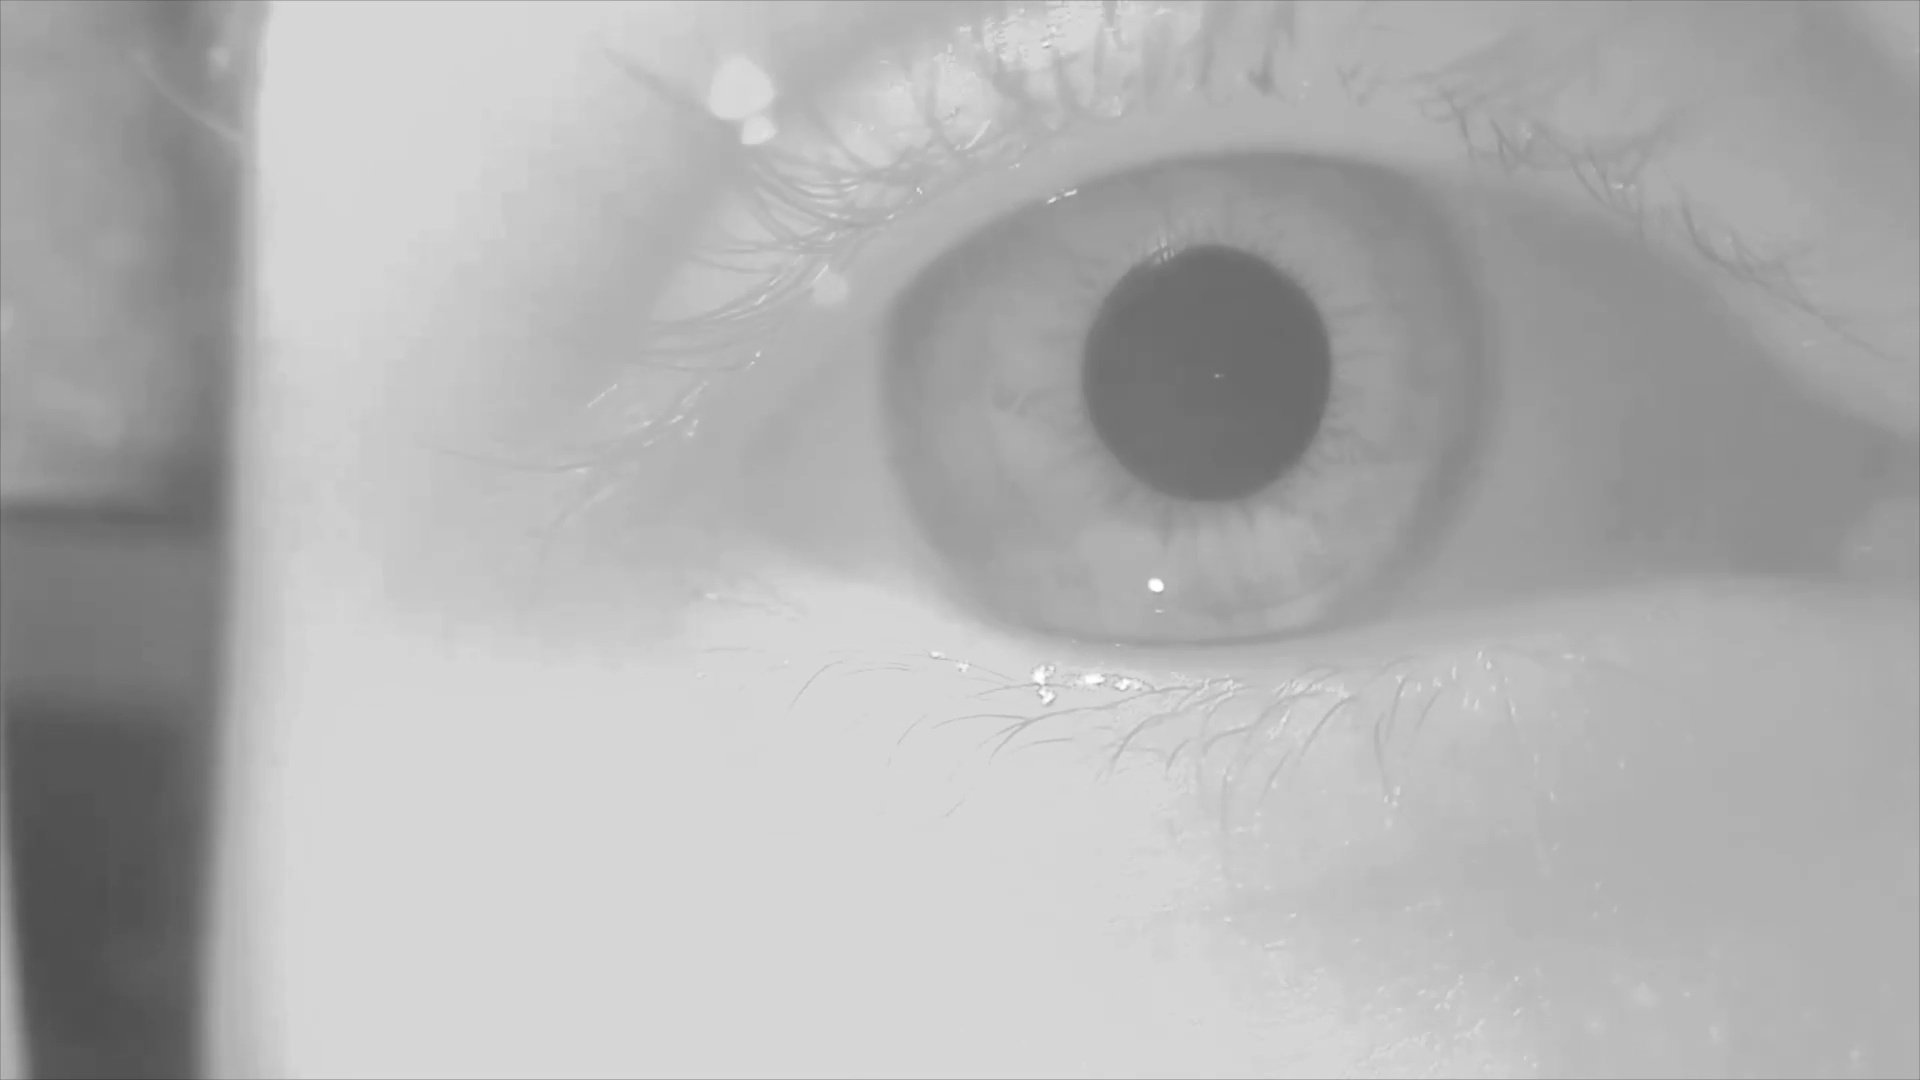pupil: (1074, 246, 1333, 501)
